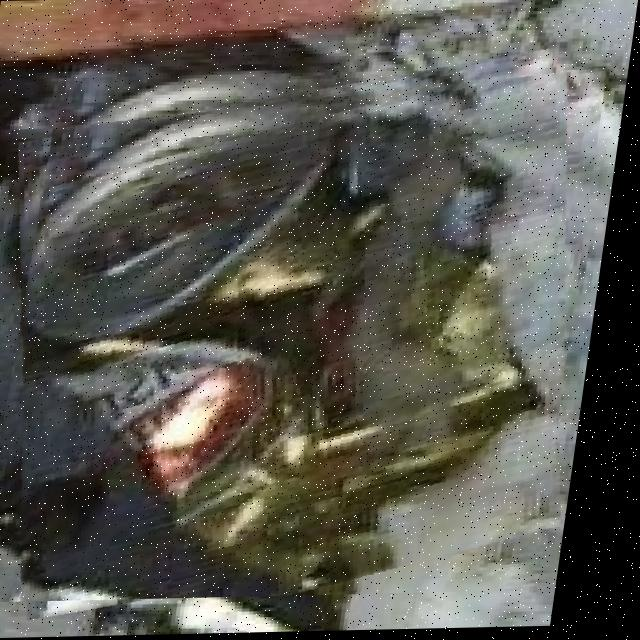litter: (0, 68, 609, 602)
